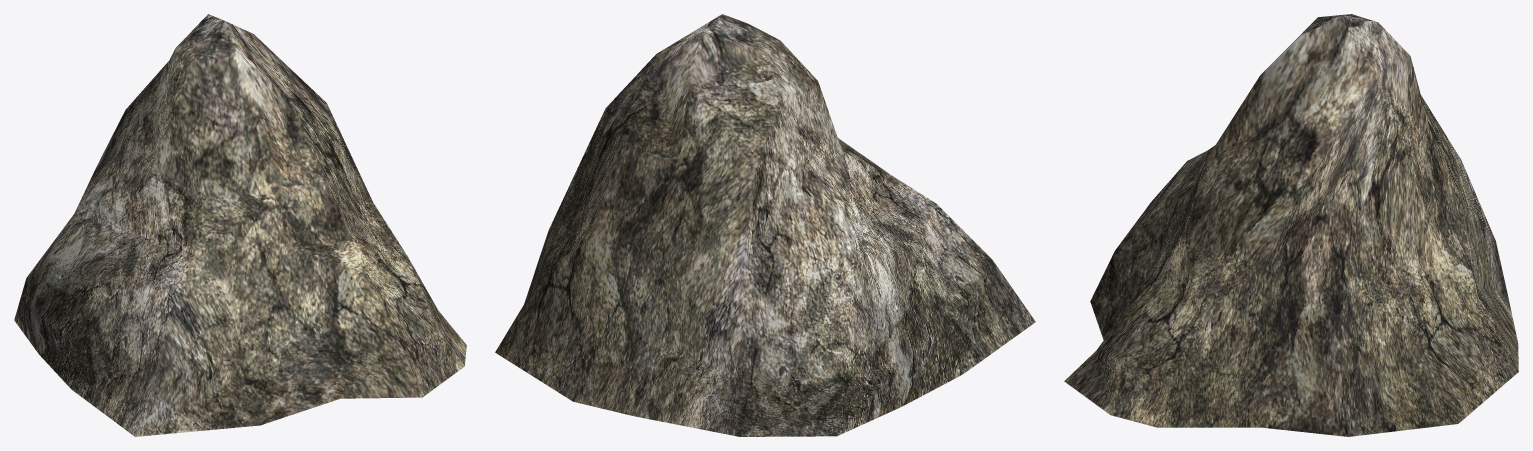
Rendered from general_obj_stone18.fbx.
3 renders of one model, left to right at view 1: azimuth 30°, elevation 25°; view 2: azimuth 150°, elevation 25°; view 3: azimuth 270°, elevation 25°, orthographic. The views are drawn at different scales.
Parts seen in each view (by area): view 1: Sphere01; view 2: Sphere01; view 3: Sphere01.
Part boxes in pixels (<box>): Sphere01: <box>14,14,466,436</box>; Sphere01: <box>495,14,1035,436</box>; Sphere01: <box>1064,14,1518,436</box>.
Size of the model in its own units: 6.33 by 5.04 by 6.34.
